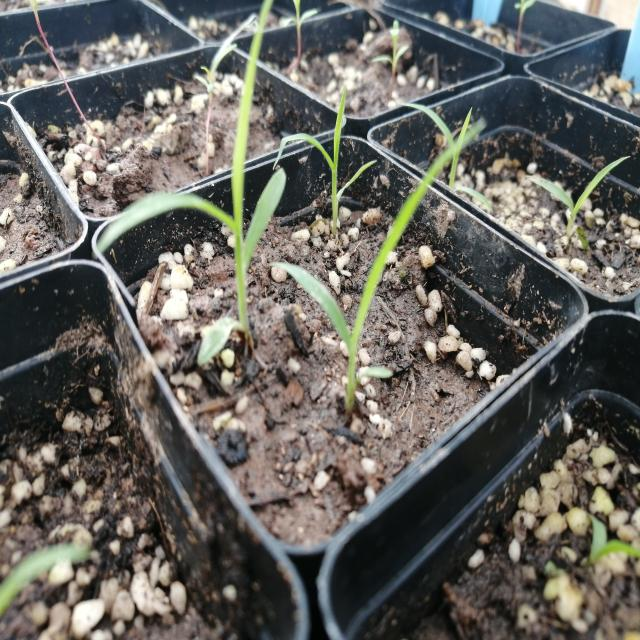crabgrass: (279, 135, 477, 411), (290, 91, 370, 231)
